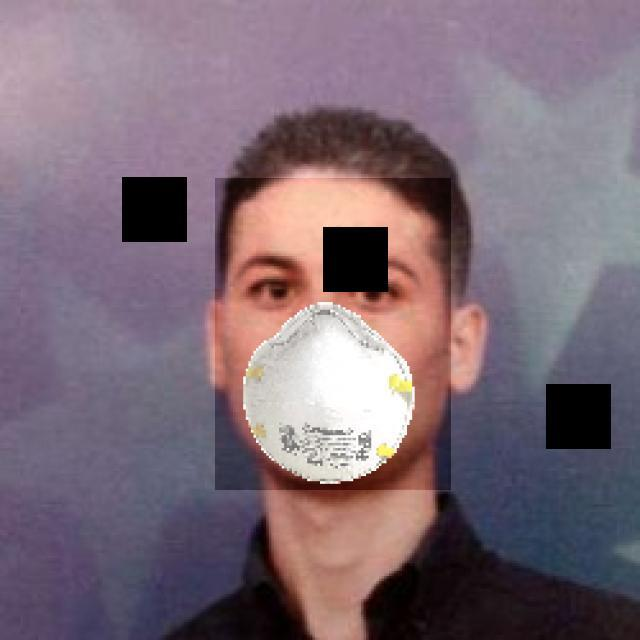n95: (215, 178, 451, 490)
